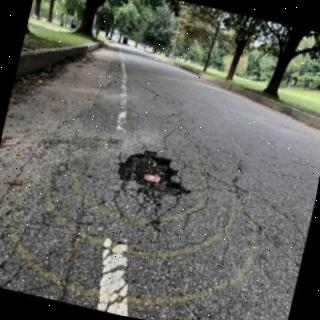pothole: (118, 150, 190, 205)
